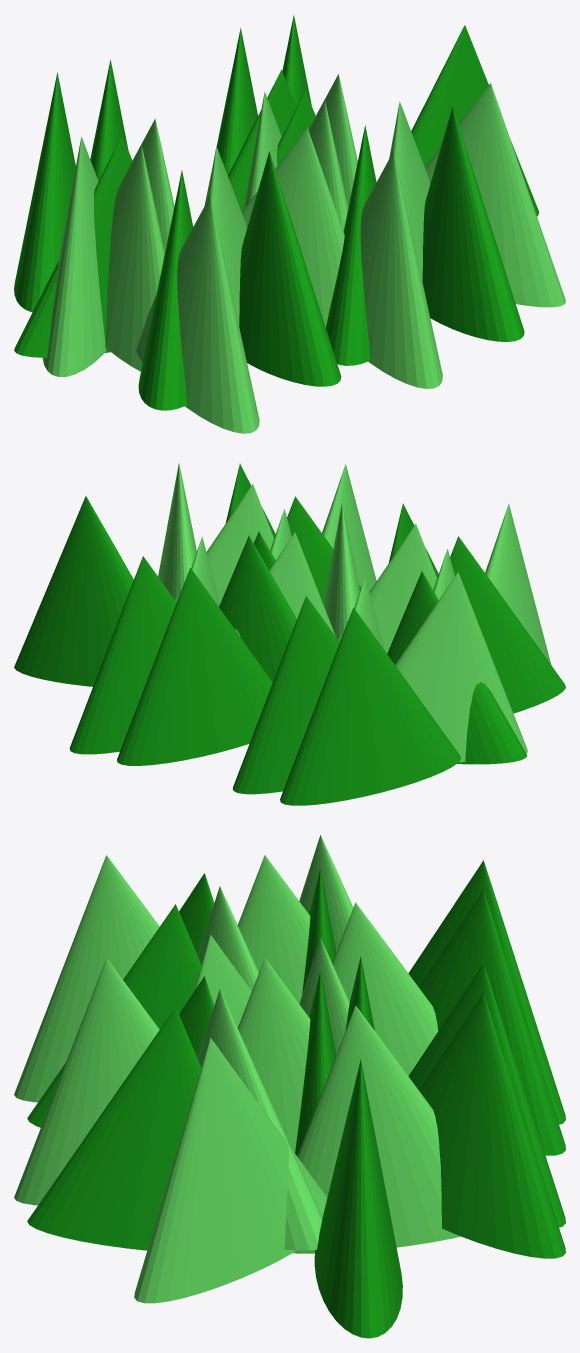
File: grama.fbx
3 views of the same model, one above another, from view 1: azimuth 30°, elevation 25°; view 2: azimuth 150°, elevation 25°; view 3: azimuth 270°, elevation 25° (orthographic). The views are drawn at different scales.
Parts seen in each view (by area): view 1: Cone.022, Cone.001, Cone.016, Cone.007, Cone, Cone.015, Cone.019, Cone.018, Cone.023, Cone.017, Cone.006, Cone.014 (+12 smaller); view 2: Cone.018, Cone.005, Cone.010, Cone.015, Cone.002, Cone.021, Cone.017, Cone.013, Cone.014, Cone.012, Cone.016, Cone.011 (+11 smaller); view 3: Cone, Cone.002, Cone.001, Cone.003, Cone.010, Cone.007, Cone.016, Cone.021, Cone.020, Cone.004, Cone.019, Cone.022 (+12 smaller).
Boxes of the visible parts, <box> form: Cone.022: <box>239,151,341,386</box>; Cone.001: <box>422,106,524,341</box>; Cone.016: <box>136,195,259,433</box>; Cone.007: <box>360,151,442,388</box>; Cone: <box>425,83,565,307</box>; Cone.015: <box>42,136,105,376</box>; Cone.019: <box>105,145,164,371</box>; Cone.018: <box>14,72,75,312</box>; Cone.023: <box>241,127,344,327</box>; Cone.017: <box>138,170,193,410</box>; Cone.006: <box>326,125,376,365</box>; Cone.014: <box>14,135,164,357</box>; Cone.018: <box>280,607,460,805</box>; Cone.005: <box>117,568,272,765</box>; Cone.010: <box>14,496,133,686</box>; Cone.015: <box>395,572,527,762</box>; Cone.002: <box>69,556,176,754</box>; Cone.021: <box>233,596,339,794</box>; Cone.017: <box>450,536,565,713</box>; Cone.013: <box>219,536,296,681</box>; Cone.014: <box>387,571,526,764</box>; Cone.012: <box>338,524,437,653</box>; Cone.016: <box>485,504,551,664</box>; Cone.011: <box>174,484,274,603</box>; Cone: <box>134,1038,327,1303</box>; Cone.002: <box>419,993,565,1258</box>; Cone.001: <box>27,1007,201,1250</box>; Cone.003: <box>293,1005,460,1253</box>; Cone.010: <box>314,1059,402,1338</box>; Cone.007: <box>14,958,159,1205</box>; Cone.016: <box>14,855,159,1102</box>; Cone.021: <box>419,890,565,1155</box>; Cone.020: <box>332,902,438,1075</box>; Cone.004: <box>238,958,336,1152</box>; Cone.019: <box>237,855,336,1003</box>; Cone.022: <box>27,904,201,1127</box>.
Bounding box in the file's own units: 55.26 × 21.66 × 41.94.
